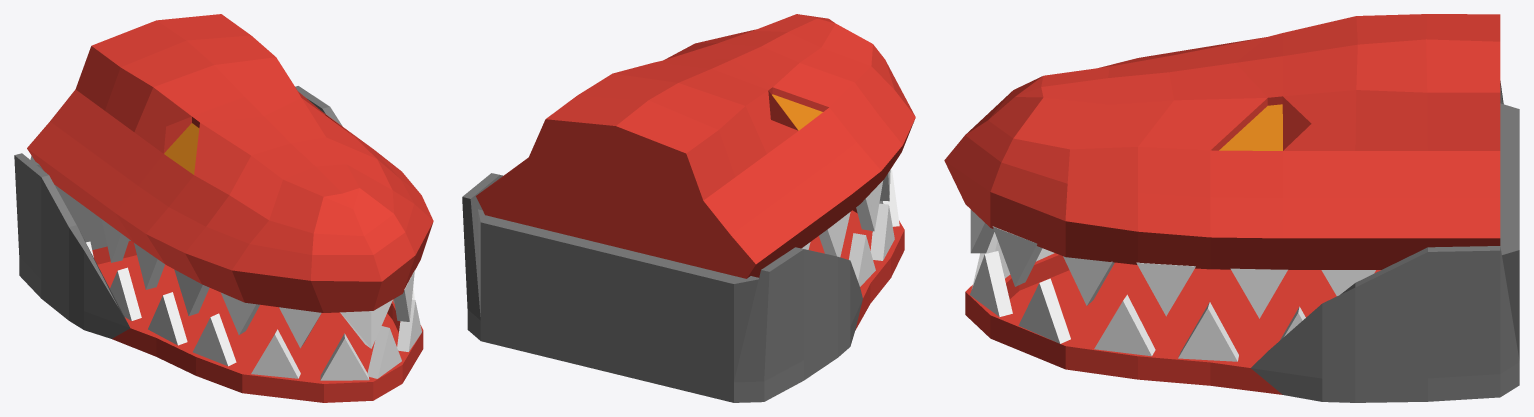
Rendered from Snake_Head.fbx.
3 renders of one model, left to right at view 1: azimuth 30°, elevation 25°; view 2: azimuth 150°, elevation 25°; view 3: azimuth 270°, elevation 25°, orthographic. The views are drawn at different scales.
Parts seen in each view (by area): view 1: Kafa .002, Cene; view 2: Kafa .002, Cene; view 3: Kafa .002, Cene.
Part boxes in pixels (left/top/right/bottom): Kafa .002: left=27, top=14, right=433, bottom=348; Cene: left=14, top=86, right=423, bottom=402; Kafa .002: left=476, top=14, right=915, bottom=278; Cene: left=462, top=170, right=904, bottom=402; Kafa .002: left=944, top=14, right=1500, bottom=318; Cene: left=965, top=81, right=1519, bottom=402.
Size of the model in its own units: 222 by 162 by 306.
